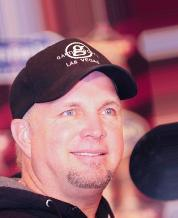face: (61, 101, 122, 164)
